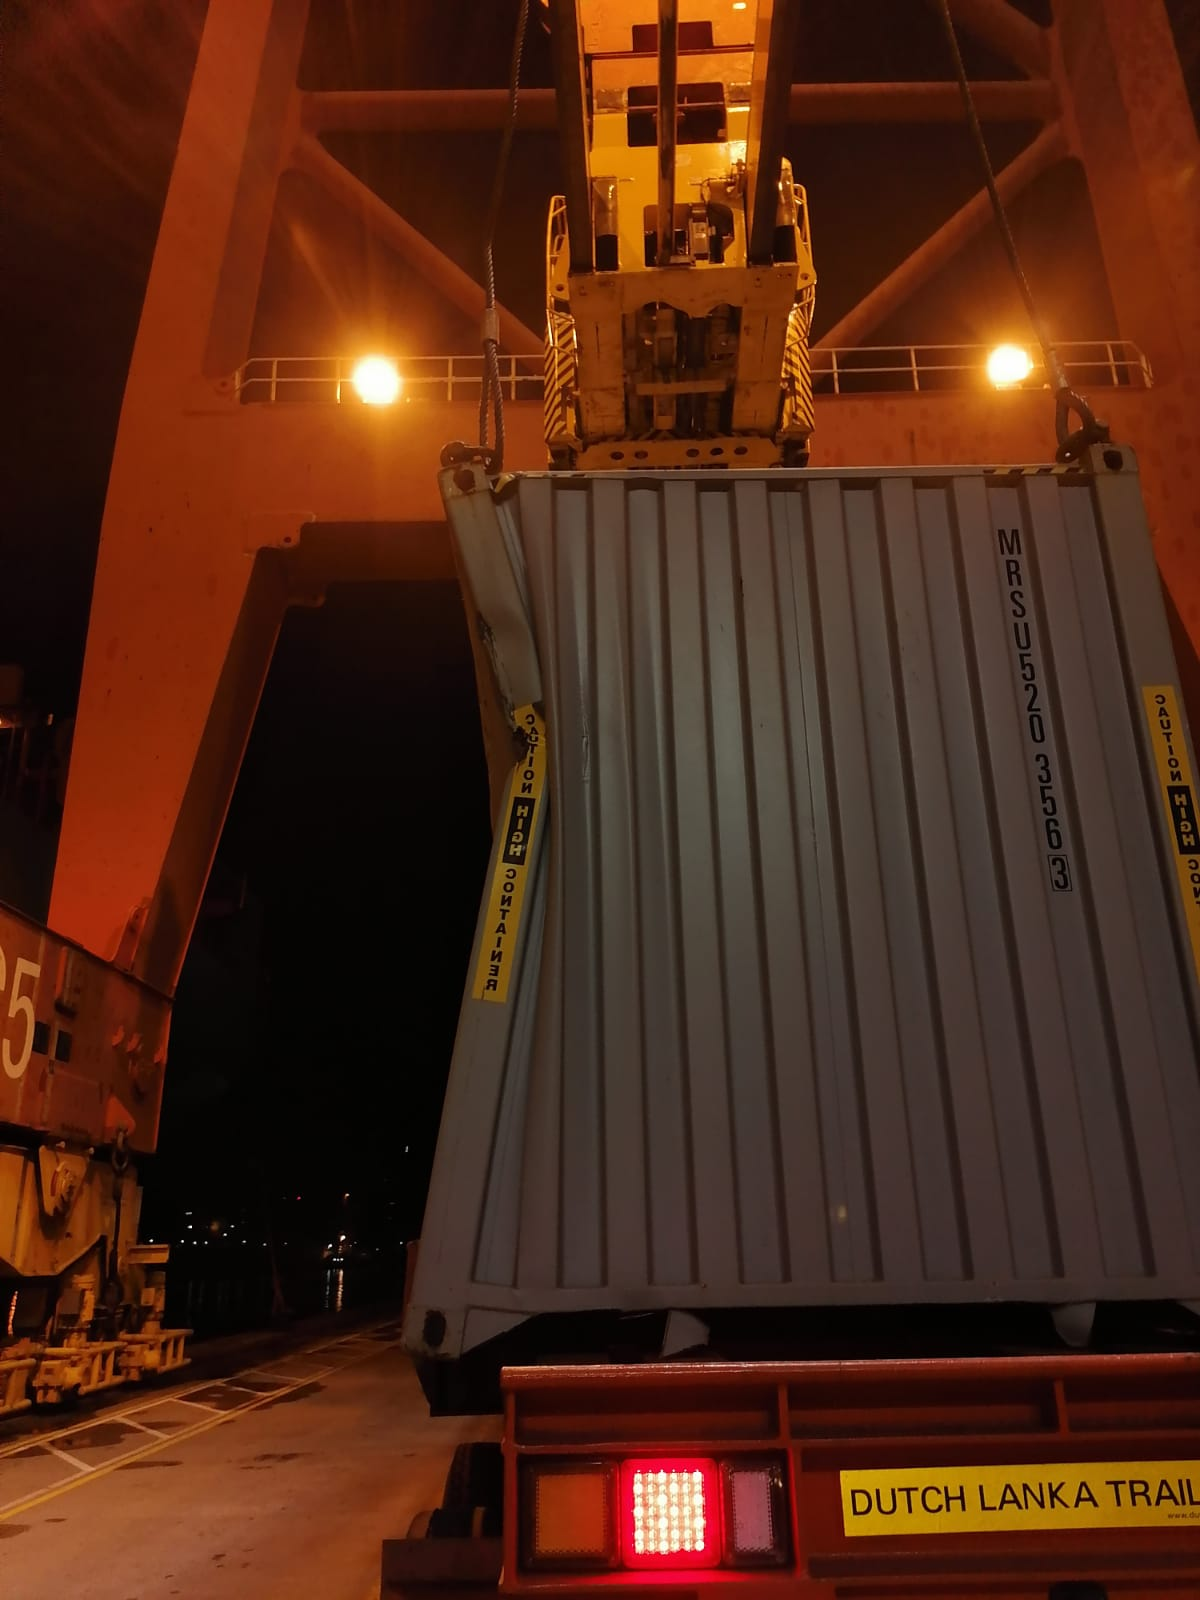dented: (447, 479, 584, 973)
